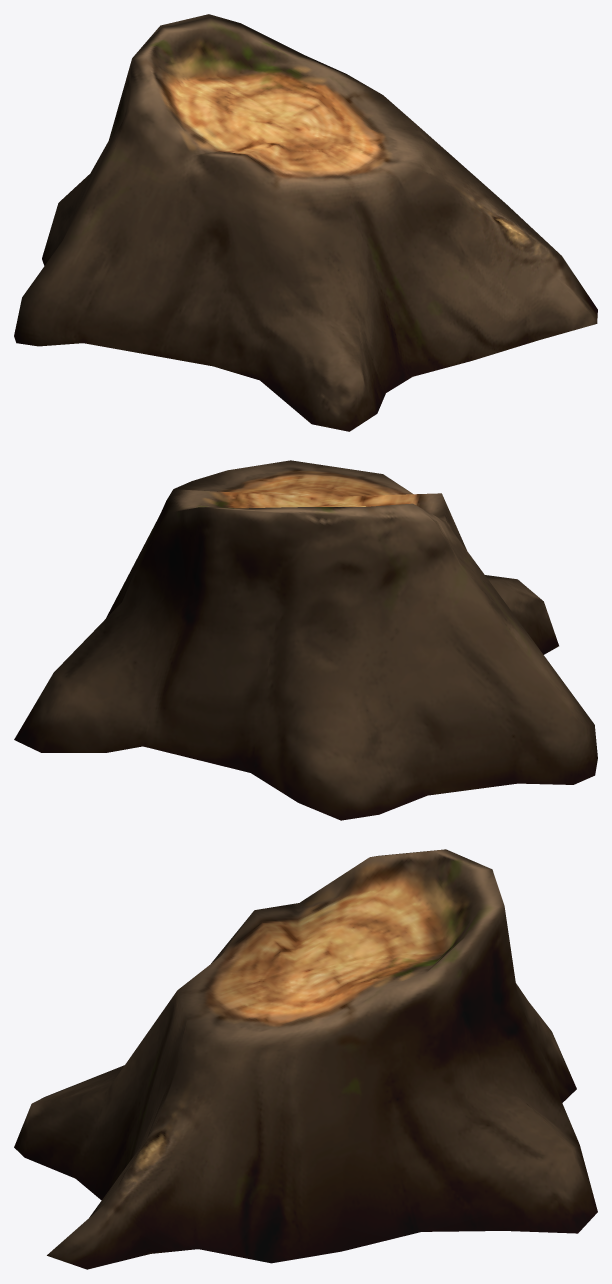
The model's file is Stump_02.fbx.
3 renders of one model, top to bottom at view 1: azimuth 30°, elevation 25°; view 2: azimuth 150°, elevation 25°; view 3: azimuth 270°, elevation 25°, orthographic. The views are drawn at different scales.
Parts seen in each view (by area): view 1: Treestump_02; view 2: Treestump_02; view 3: Treestump_02.
Part boxes in pixels (x1,y1,x2,y2): Treestump_02: [14, 14, 597, 431]; Treestump_02: [14, 460, 597, 820]; Treestump_02: [14, 849, 597, 1269].
Bounding box in the file's own units: 248 × 127 × 232.
